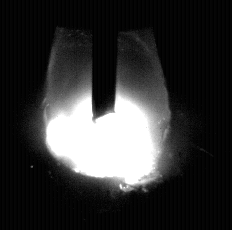arame: (93, 0, 116, 121)
poca: (43, 0, 170, 230)
